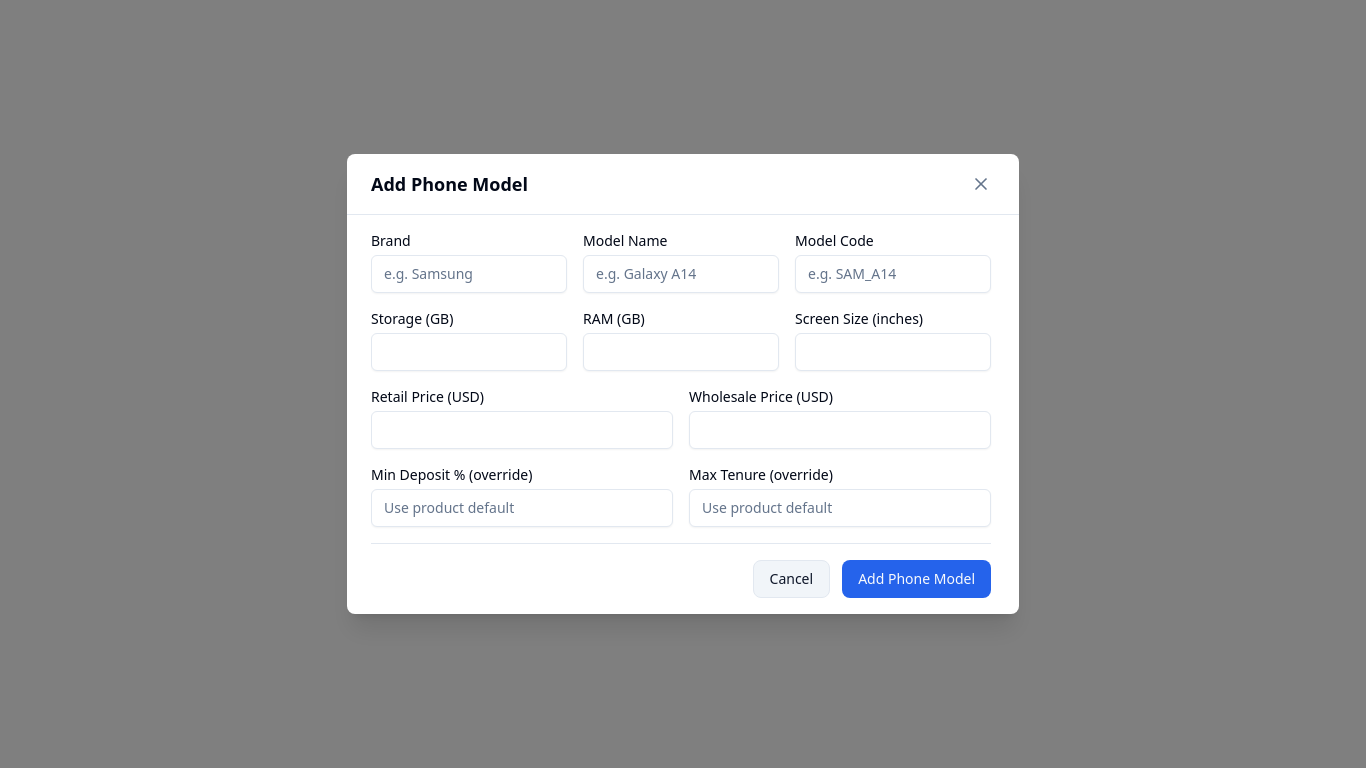
Scenario: DeviceModelForm › validates required fields (brand, modelName, modelCode)
Click the button "Add Phone Model" at (917, 579), box [842,560,991,598]
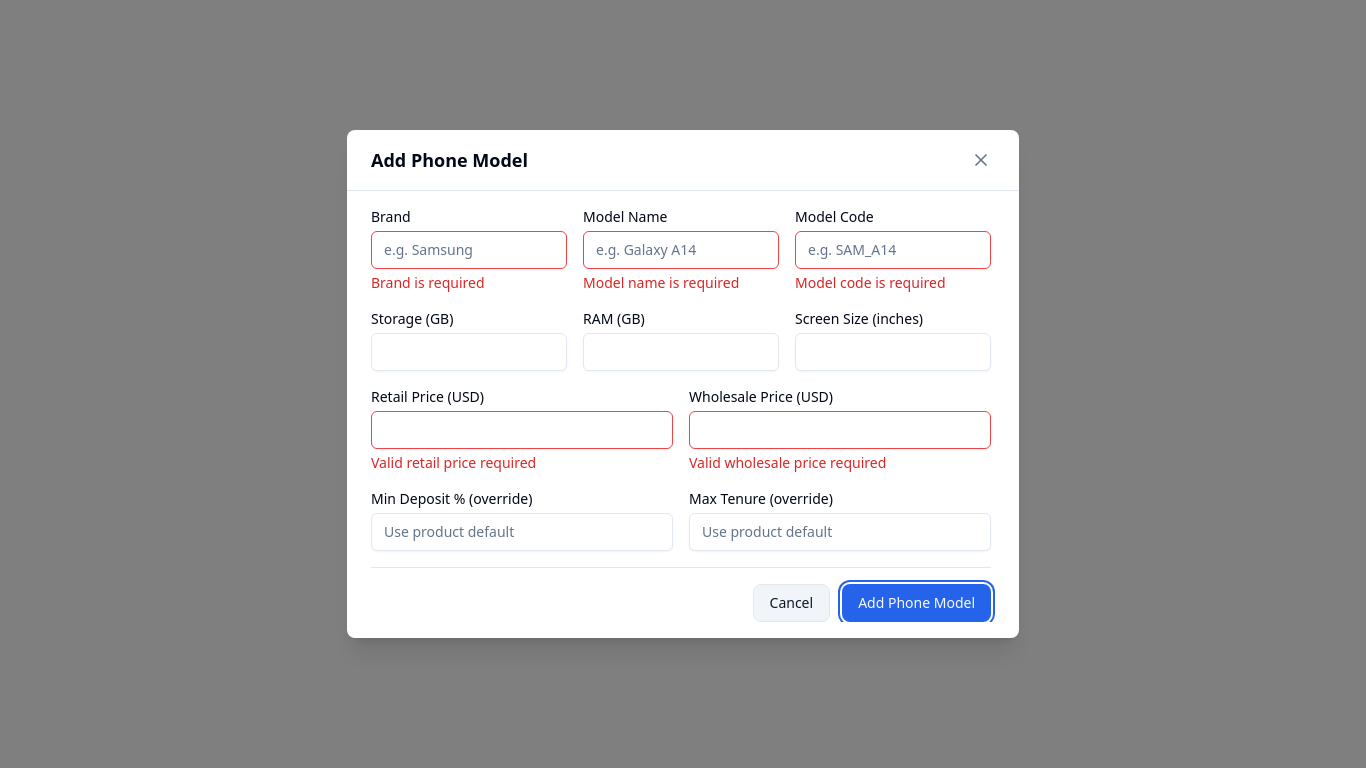
Expected: the text "Brand is required" is shown, [371,273,485,292]
Expected: the text "Model name is required" is shown, [583,273,739,292]
Expected: the text "Model code is required" is shown, [795,273,946,292]
